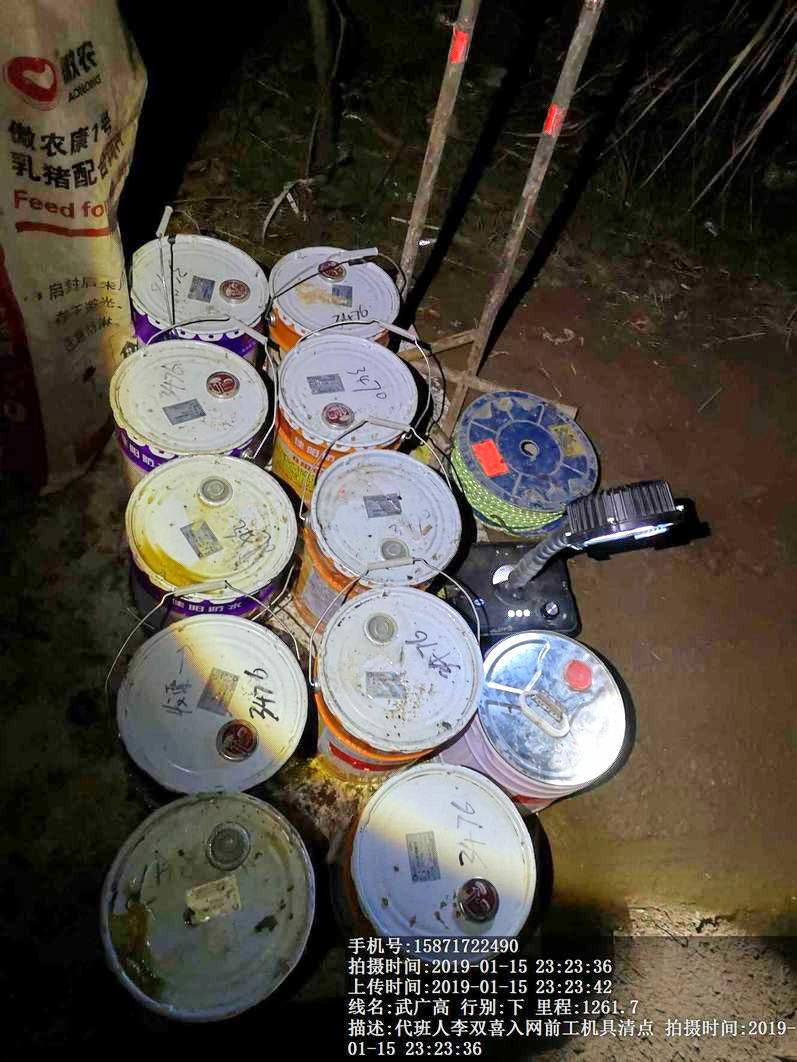BZD: (9, 6, 142, 391)
